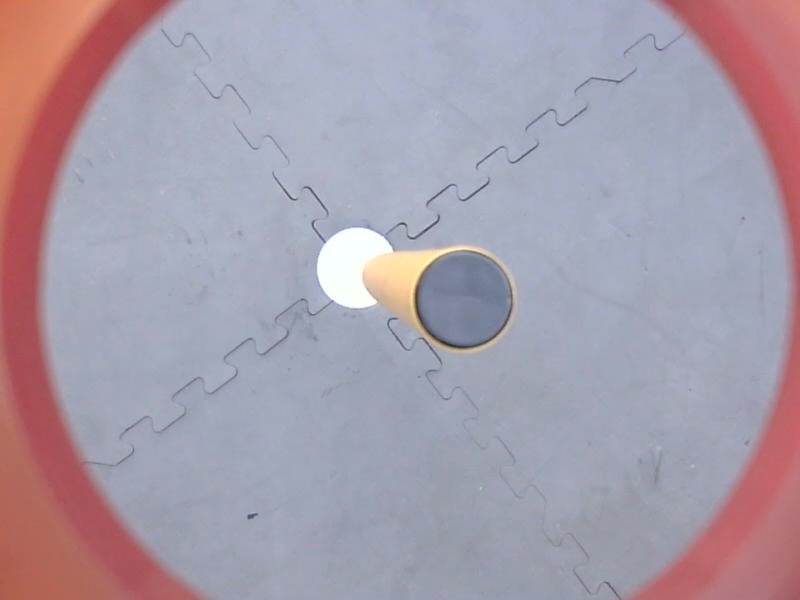tip: (409, 243, 523, 356)
